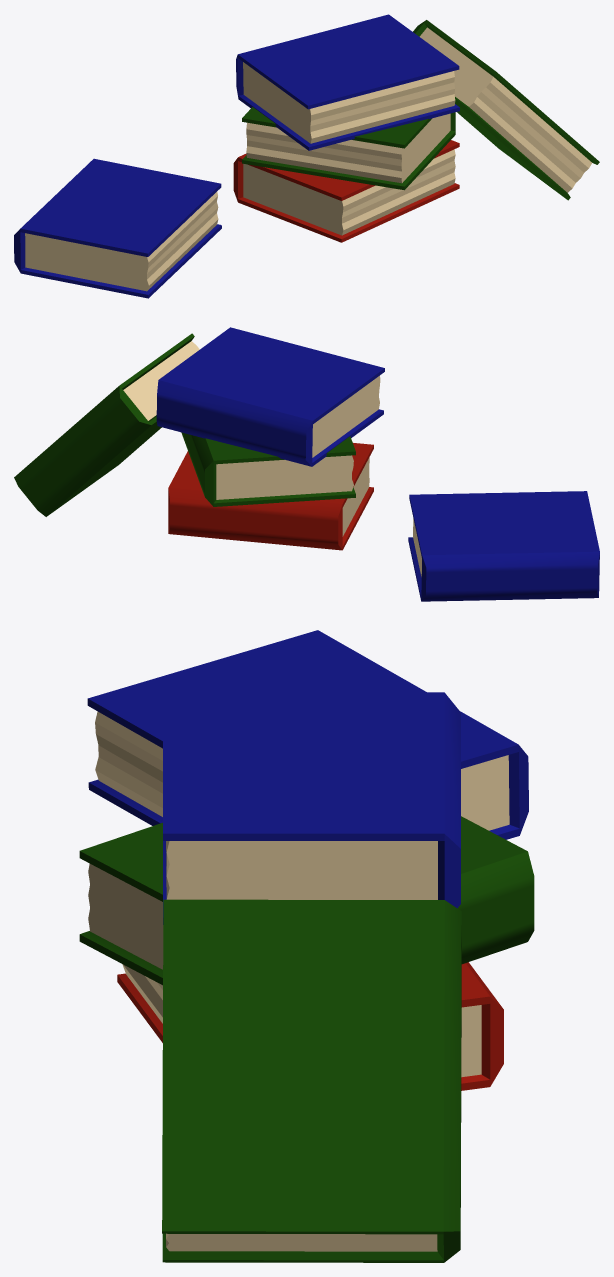
The model's file is books.glb.
3 views of the same model, one above another, from view 1: azimuth 30°, elevation 25°; view 2: azimuth 150°, elevation 25°; view 3: azimuth 270°, elevation 25° (orthographic). The views are drawn at different scales.
Parts seen in each view (by area): view 1: Book.007, Book.001, Book.006, Book.000, Book.005; view 2: Book.007, Book.001, Book.000, Book.006, Book.005; view 3: Book.000, Book.007, Book.001, Book.005, Book.006.
Boxes of the visible parts, box(x1,y1,x2,y2) form: Book.007: box(236, 14, 459, 150); Book.001: box(14, 158, 221, 298); Book.006: box(233, 140, 459, 242); Book.000: box(413, 20, 599, 200); Book.005: box(242, 107, 455, 190); Book.007: box(156, 327, 384, 466); Book.001: box(408, 491, 599, 601); Book.000: box(14, 333, 199, 516); Book.006: box(168, 443, 373, 550); Book.005: box(181, 432, 355, 506); Book.000: box(162, 899, 461, 1262); Book.007: box(163, 692, 460, 924); Book.001: box(87, 630, 528, 839); Book.005: box(79, 816, 534, 985); Book.006: box(117, 962, 503, 1090).
Bounding box in the file's own units: 3.01 × 0.8519 × 1.09.
